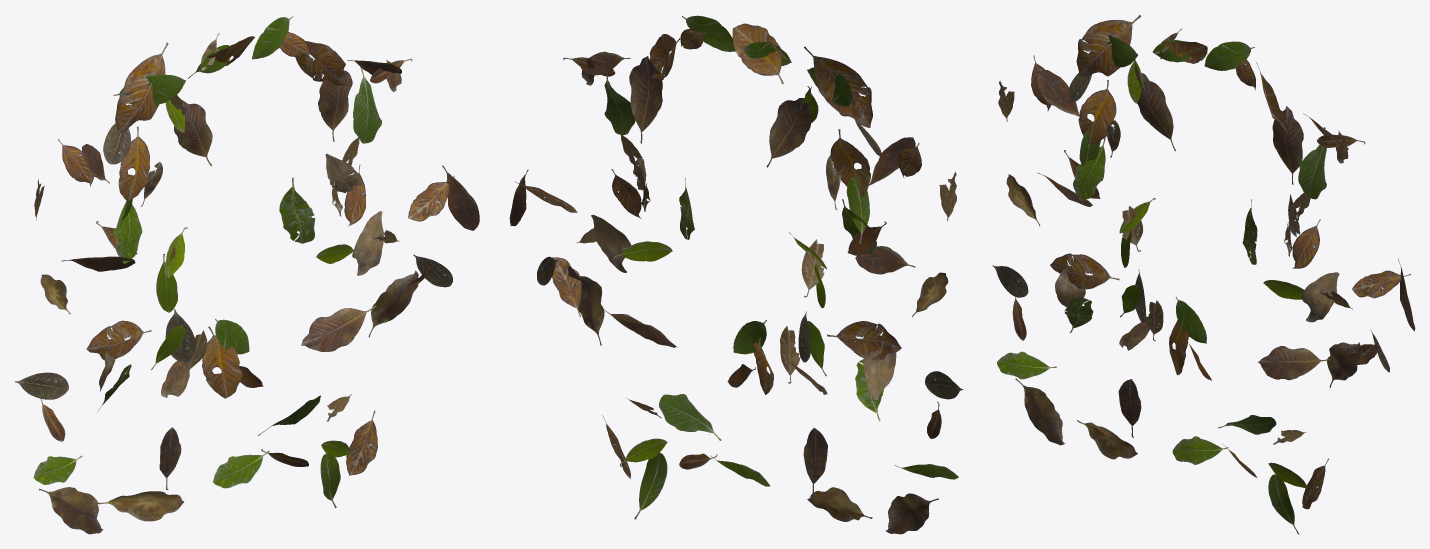
The model's file is Leaf_Pile_01_Var2_LOD0.fbx.
The picture shows the model from 3 angles, left to right: view 1: azimuth 30°, elevation 25°; view 2: azimuth 150°, elevation 25°; view 3: azimuth 330°, elevation 25°; orthographic projection. The views are drawn at different scales.
Visible parts, largest first — view 1: Var2_LOD0; view 2: Var2_LOD0; view 3: Var2_LOD0.
Boxes of the visible parts, x1,y1,x2,y2 form: Var2_LOD0: [15, 16, 479, 534]; Var2_LOD0: [509, 15, 963, 534]; Var2_LOD0: [992, 14, 1415, 534].
Bounding box in the file's own units: 92.94 × 99.11 × 6.15.
